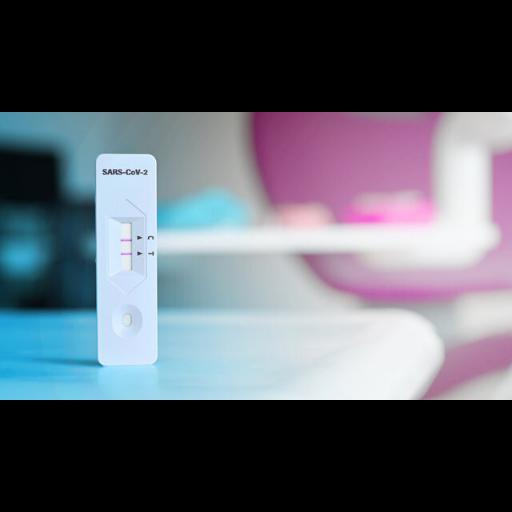Pos: (94, 153, 158, 363)
